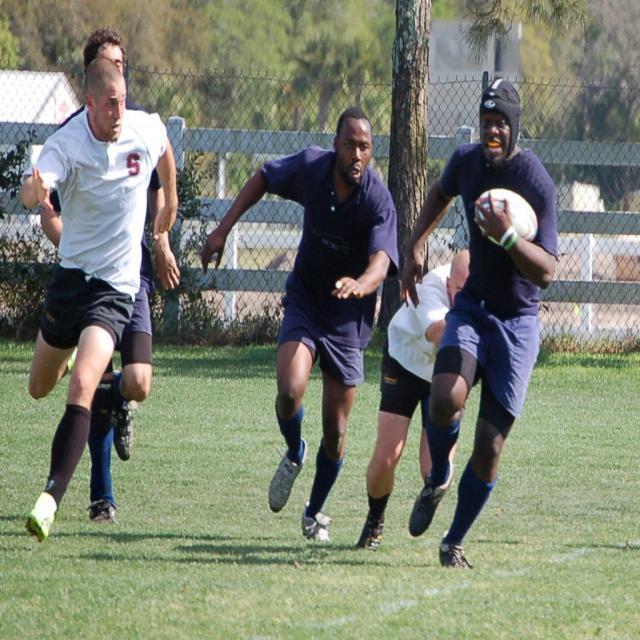ball: (474, 188, 539, 246)
